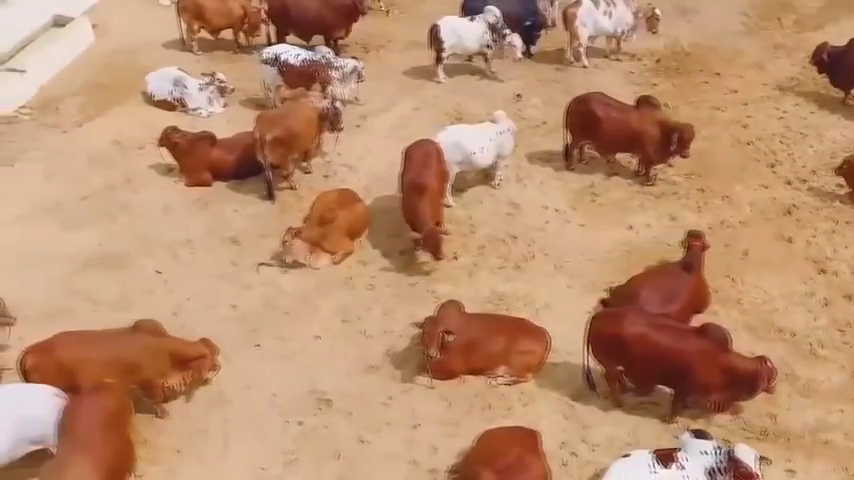bo: (576, 297, 785, 427), (18, 316, 224, 416), (554, 74, 702, 192), (419, 287, 558, 396), (606, 220, 733, 319), (593, 420, 788, 480), (421, 94, 523, 206), (417, 3, 534, 95), (384, 120, 457, 267), (250, 39, 367, 127), (248, 97, 343, 205), (267, 182, 369, 272), (440, 419, 590, 480), (52, 383, 143, 480), (145, 118, 252, 199), (125, 51, 235, 127), (556, 2, 670, 66), (455, 1, 550, 66), (170, 1, 271, 60), (263, 1, 378, 50), (3, 375, 58, 471), (813, 32, 854, 108), (830, 139, 854, 204)
